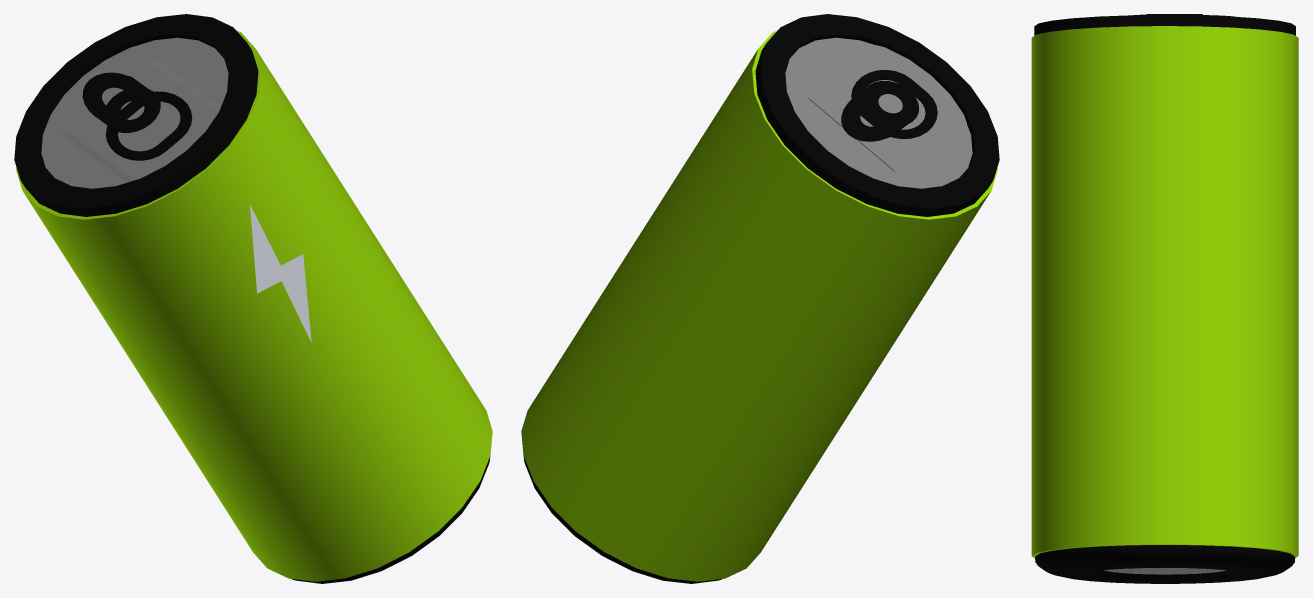
Rendered from Energy Drink.fbx.
3 renders of one model, left to right at view 1: azimuth 30°, elevation 25°; view 2: azimuth 150°, elevation 25°; view 3: azimuth 270°, elevation 25°, orthographic. The views are drawn at different scales.
Parts seen in each view (by area): view 1: mergedBlocks; view 2: mergedBlocks; view 3: mergedBlocks.
Boxes of the visible parts, x1,y1,x2,y2 form: mergedBlocks: (14, 14, 492, 583); mergedBlocks: (521, 14, 999, 583); mergedBlocks: (1031, 14, 1298, 583).
Bounding box in the file's own units: 7.59 × 9.19 × 4.15.
